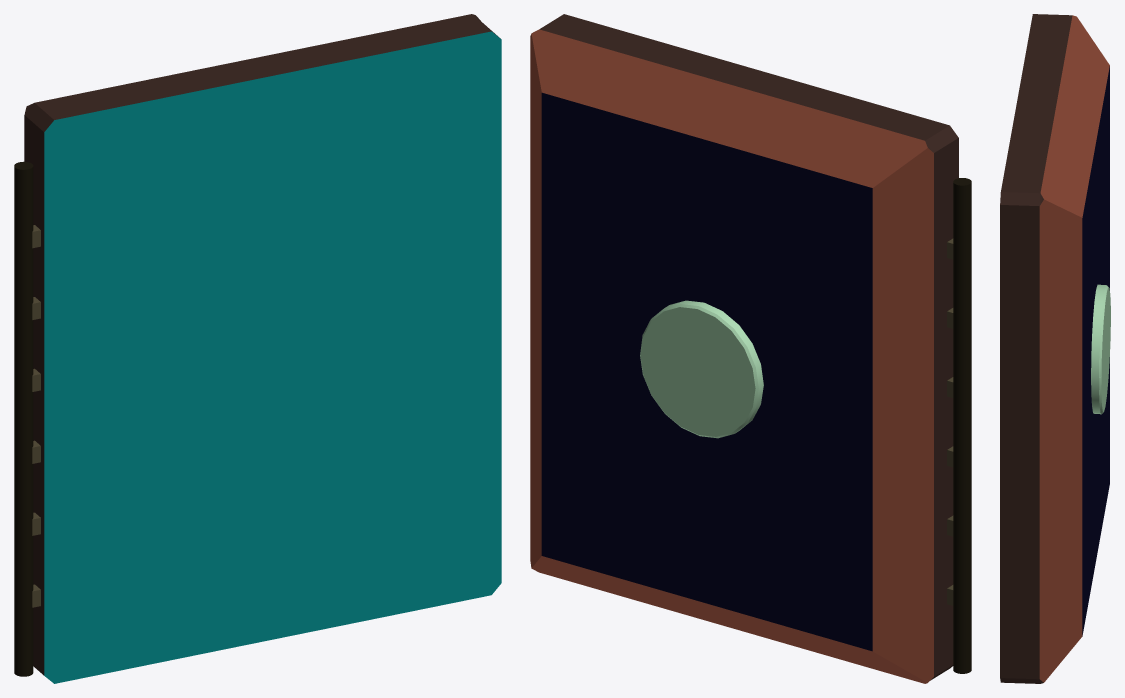
Rendered from SM_PorteCoffre.fbx.
3 renders of one model, left to right at view 1: azimuth 30°, elevation 25°; view 2: azimuth 150°, elevation 25°; view 3: azimuth 270°, elevation 25°, orthographic. The views are drawn at different scales.
Visible parts, largest first — view 1: coffre_sansboutton:portecf1Shape; view 2: coffre_sansboutton:portecf1Shape; view 3: coffre_sansboutton:portecf1Shape.
Part boxes in pixels (left/top/right/bottom): coffre_sansboutton:portecf1Shape: left=14, top=14, right=501, bottom=683; coffre_sansboutton:portecf1Shape: left=530, top=14, right=971, bottom=683; coffre_sansboutton:portecf1Shape: left=1000, top=14, right=1110, bottom=683.
Bounding box in the file's own units: 77.83 × 90.81 × 18.59.
